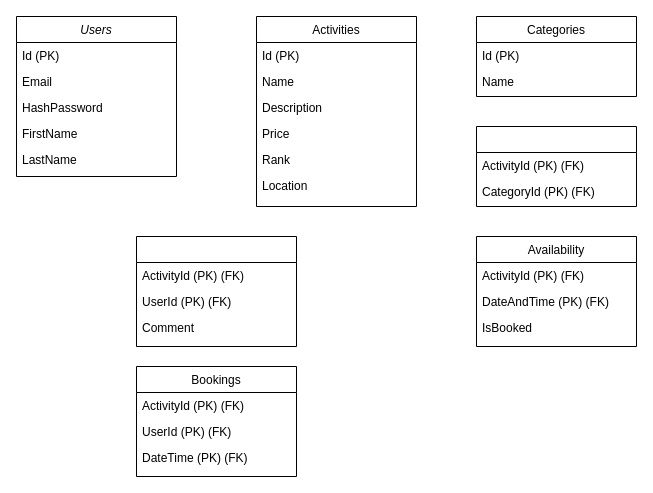
Image size: 653x493. Some labels were removed from this diagram. The box of each missing label's shape, as (x1, y1, x2, y2) in pixels:
CategoryActivity: (476, 126, 636, 206)
Comments: (136, 236, 296, 346)
